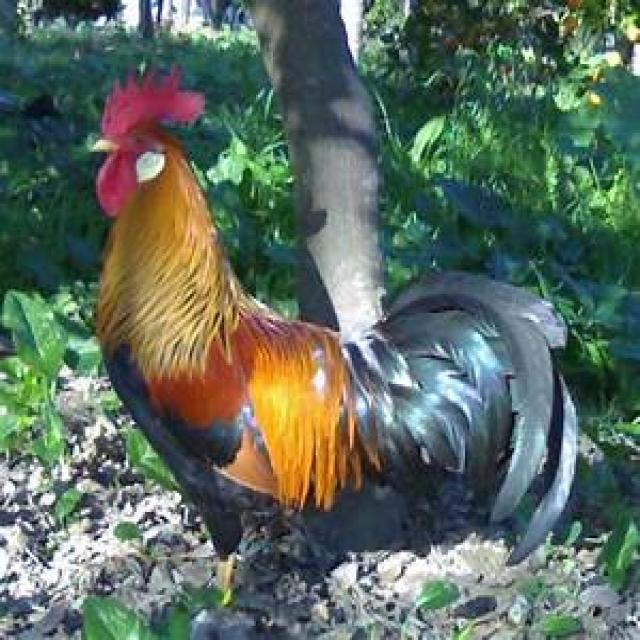hen: (94, 71, 580, 562)
